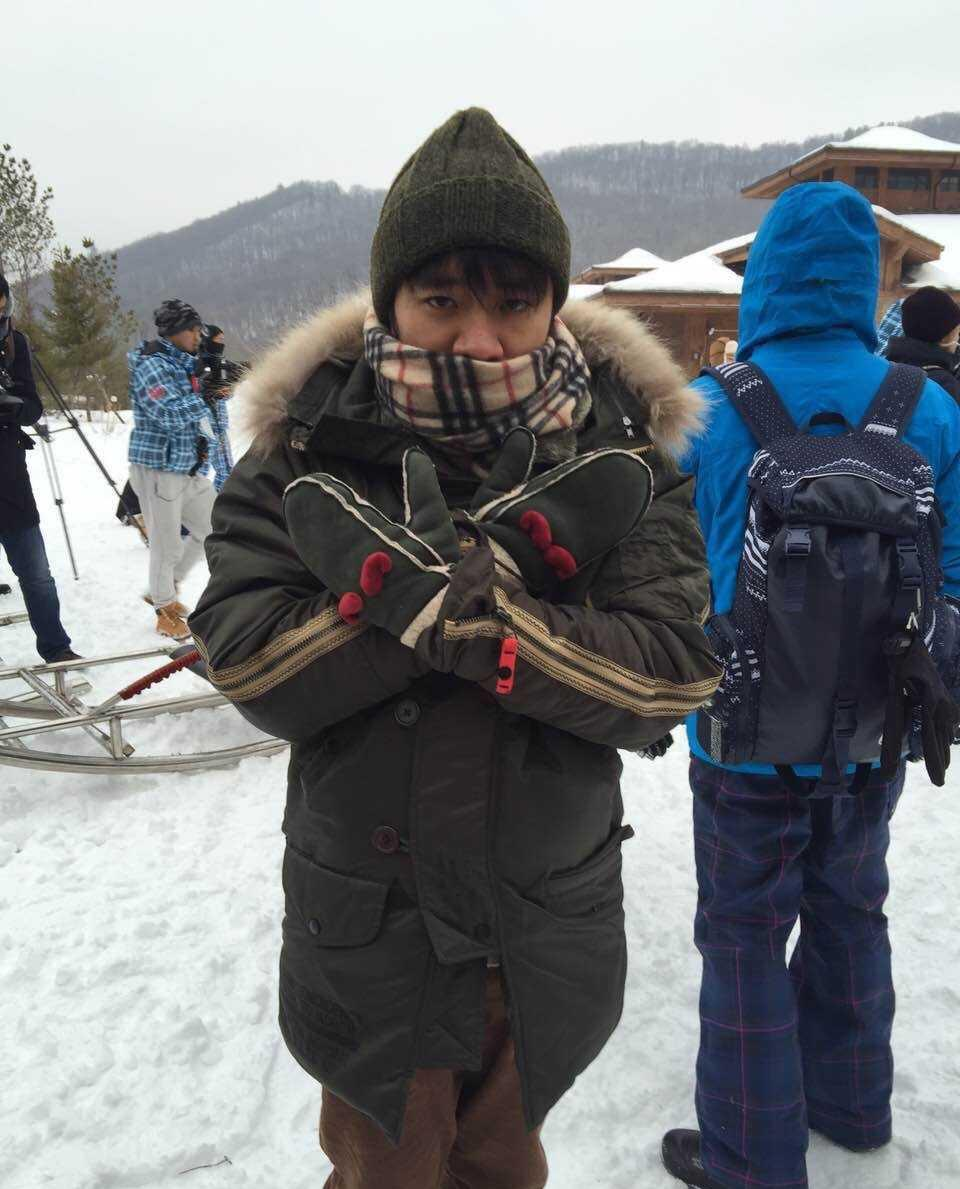NONE: (179, 323, 204, 354)
WRONG: (403, 259, 560, 416)
